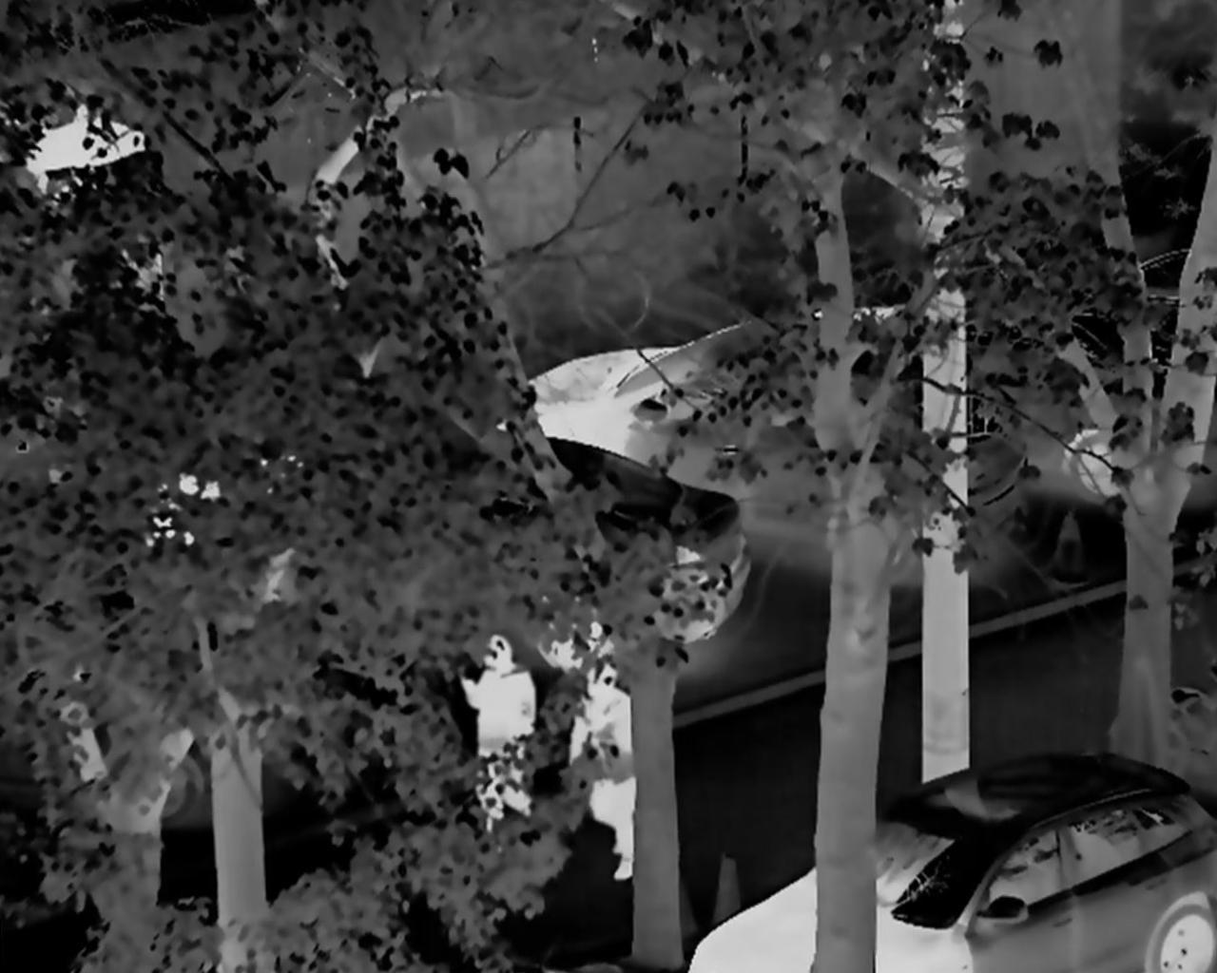person: (455, 639, 542, 855), (575, 649, 653, 884)
